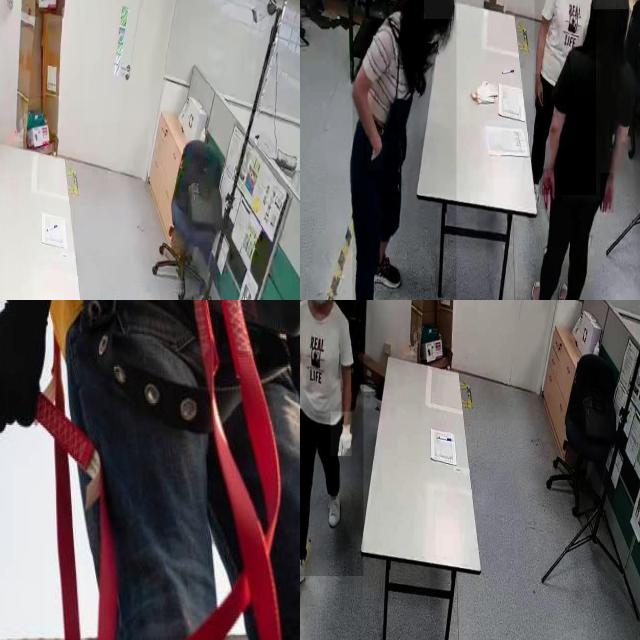Harness: (188, 300, 284, 640), (39, 362, 118, 640)
face_mask: (302, 300, 335, 313)
hand_glove: (330, 411, 352, 457)
hand_noglove: (540, 168, 556, 210), (600, 172, 614, 214), (367, 138, 383, 171), (533, 73, 544, 109)
head_nohelmet: (424, 0, 454, 20), (593, 0, 629, 10)
person: (352, 0, 457, 300), (535, 0, 635, 300), (300, 300, 364, 576), (534, 0, 595, 195)
shoes: (368, 247, 402, 291), (323, 478, 345, 532), (529, 274, 551, 300), (555, 277, 576, 300), (300, 555, 309, 602)
